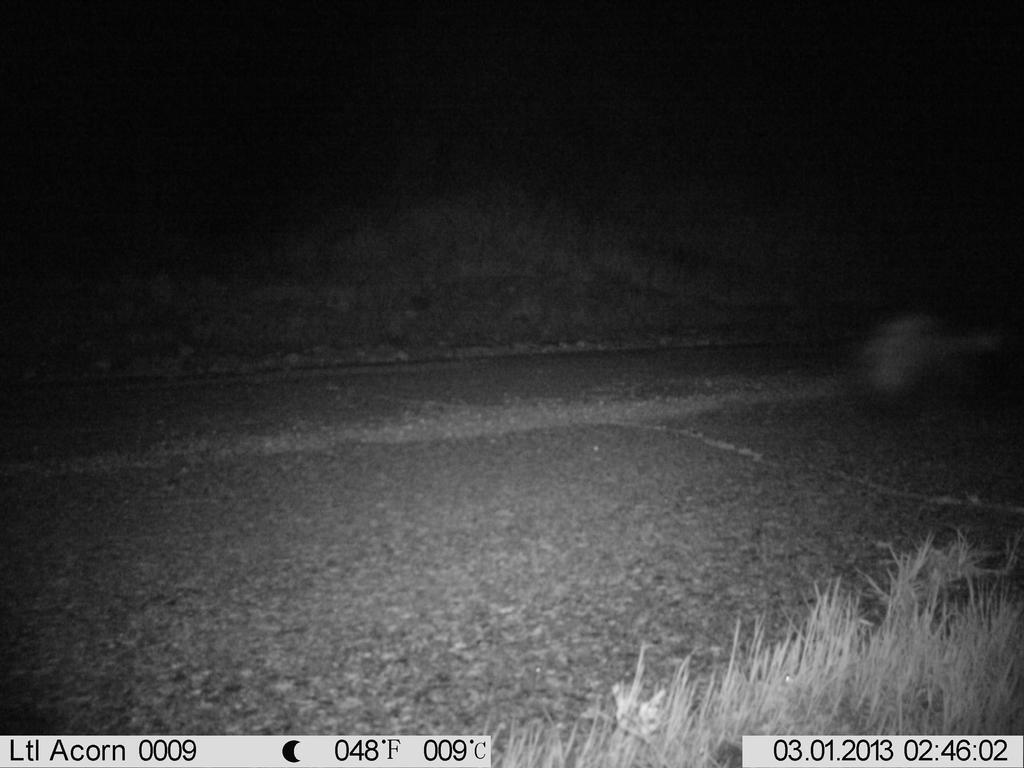skunk: (852, 299, 997, 450)
